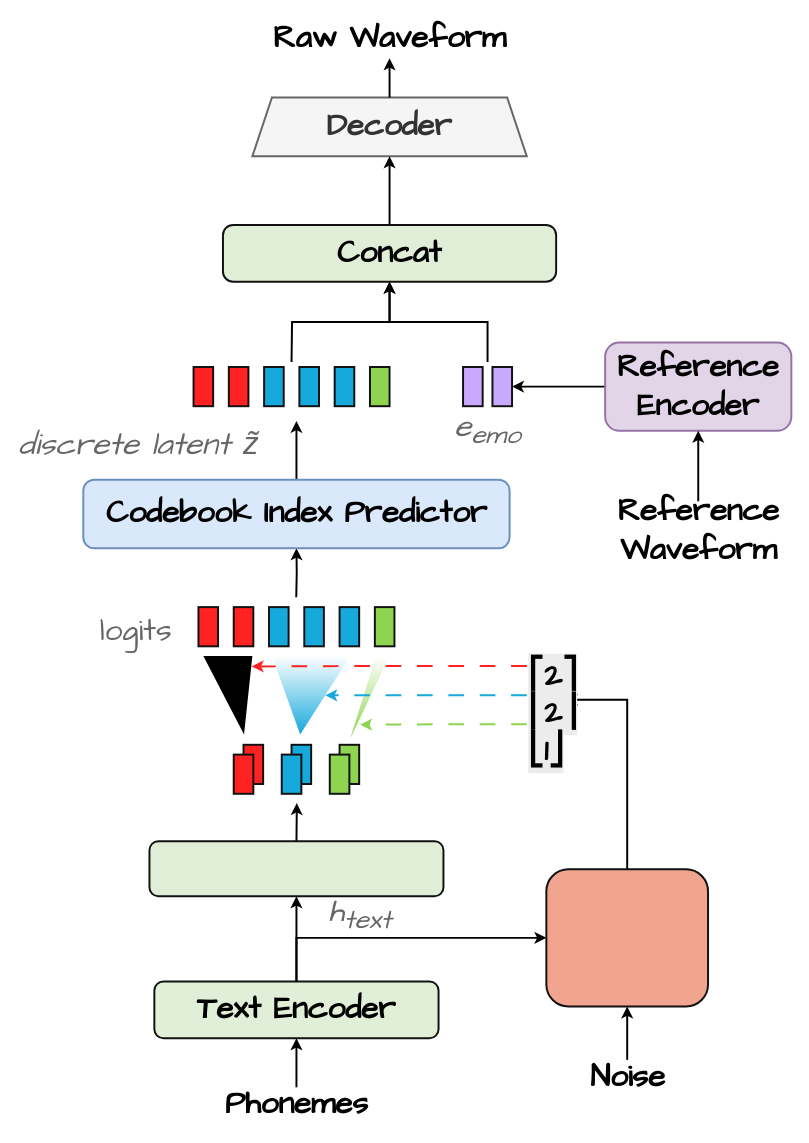
The diagram is 809 pixels wide and 1143 high, and some of its shapes have lost their labels. Here are the shapes that lost their labels. From the top down, the box of each, then its label:
(148, 840, 444, 897): Projection
(545, 868, 709, 1007): Duration Predictor
